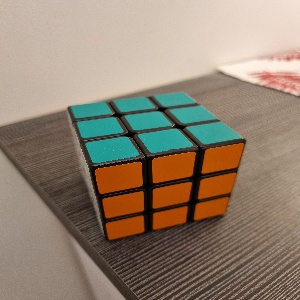cube: (66, 90, 247, 244)
